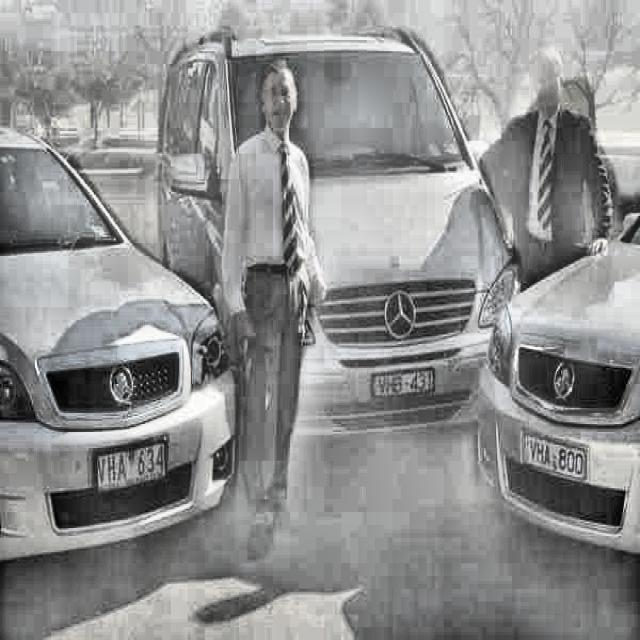license_plate: (92, 441, 166, 486), (526, 429, 588, 482), (372, 368, 438, 402)
